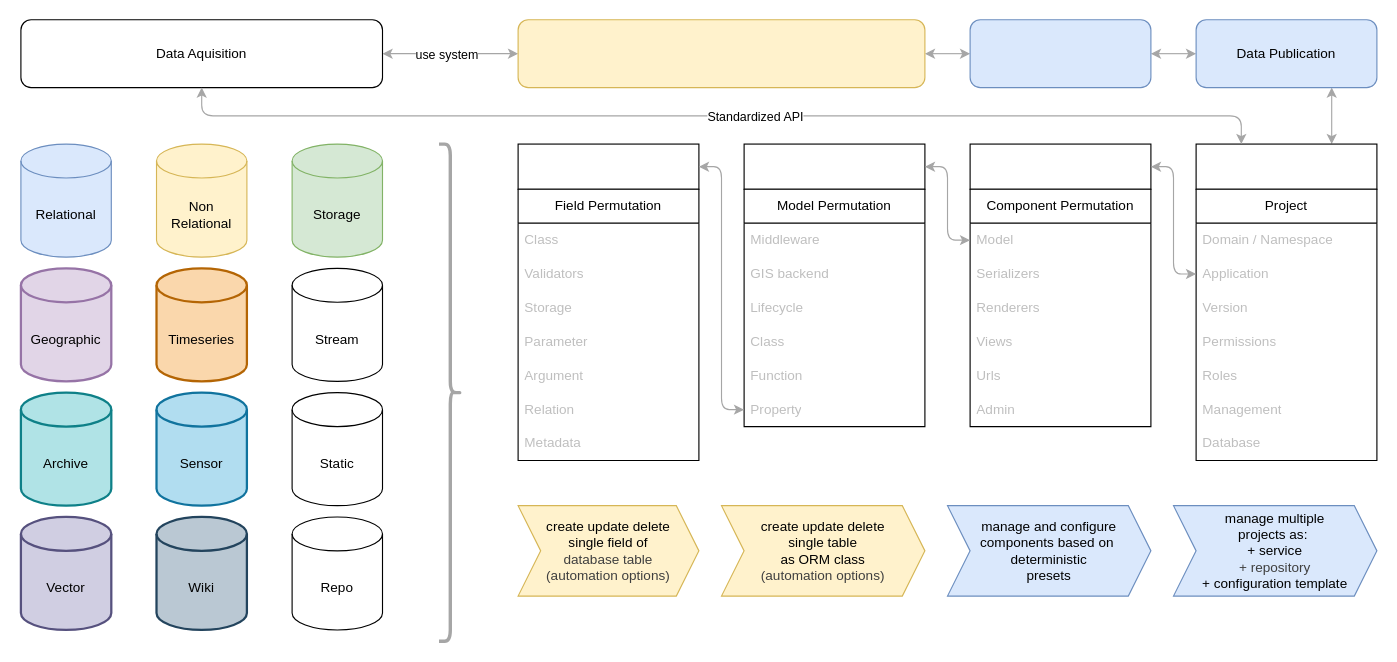
This 1397x662 diagram has some shape labels left out. Here are the shapes that lost their labels. From the top down, the centre of each, then its label:
(x=721, y=53): Data Preparation
(x=1060, y=53): Data Processing
(x=608, y=166): TableField
(x=834, y=166): Table
(x=1060, y=166): Module
(x=1286, y=166): Organization
